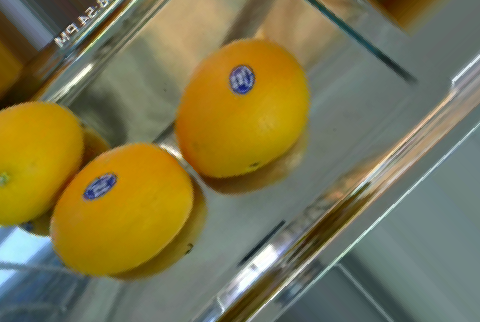Orange: (49, 141, 193, 277), (175, 37, 310, 177), (1, 98, 84, 227)
